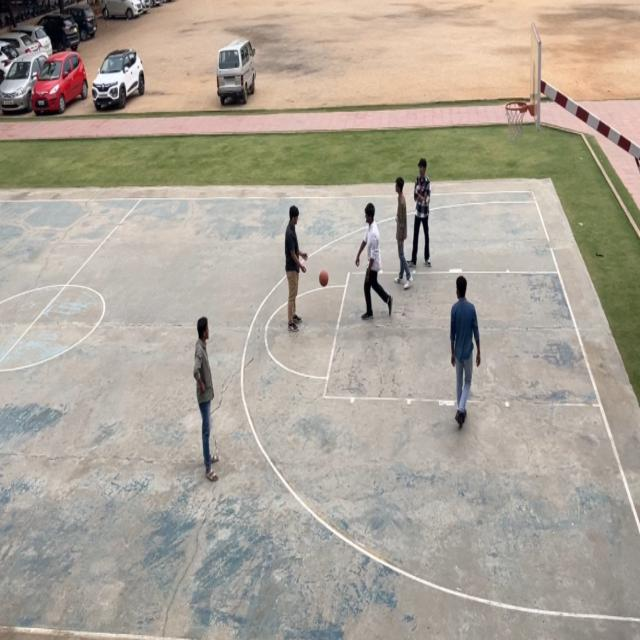basketball: (318, 266, 329, 288)
hoop: (505, 98, 528, 137)
